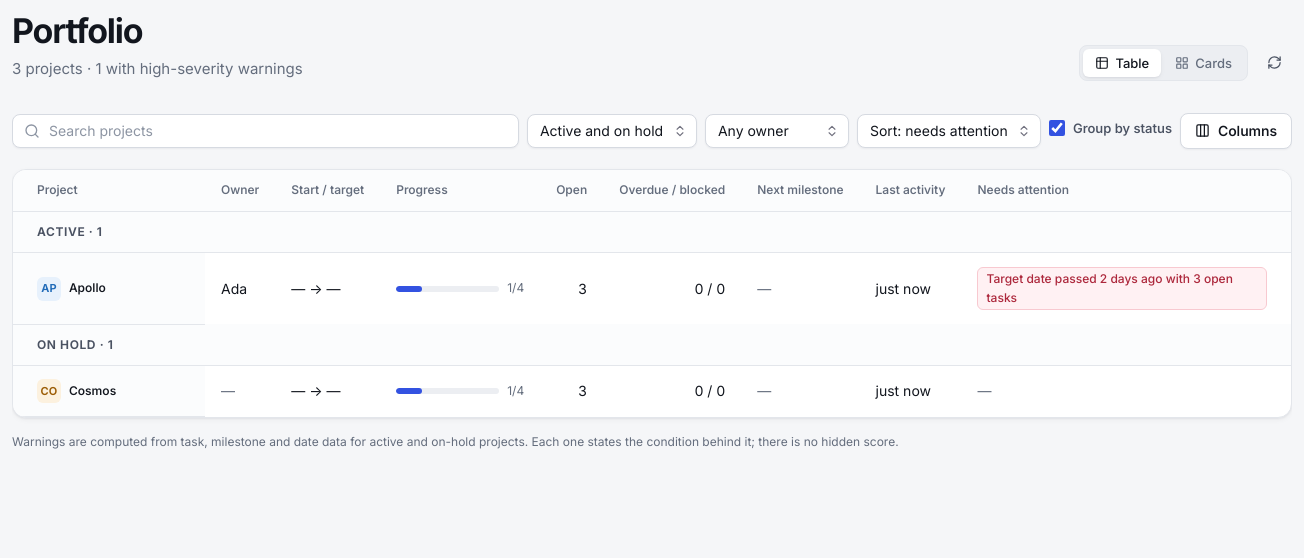
Test: Portfolio › lists active and on-hold projects with explained warnings, and filters by owner
Expected: the link "AP Apollo" is shown, left=37, top=276, right=106, bottom=300
Expected: the list item "Target date passed 2 days ago with 3 open tasks" is shown, left=978, top=267, right=1267, bottom=310
Select "All statuses" in the dropdown named "Status": (612, 131) left=527, top=114, right=697, bottom=148
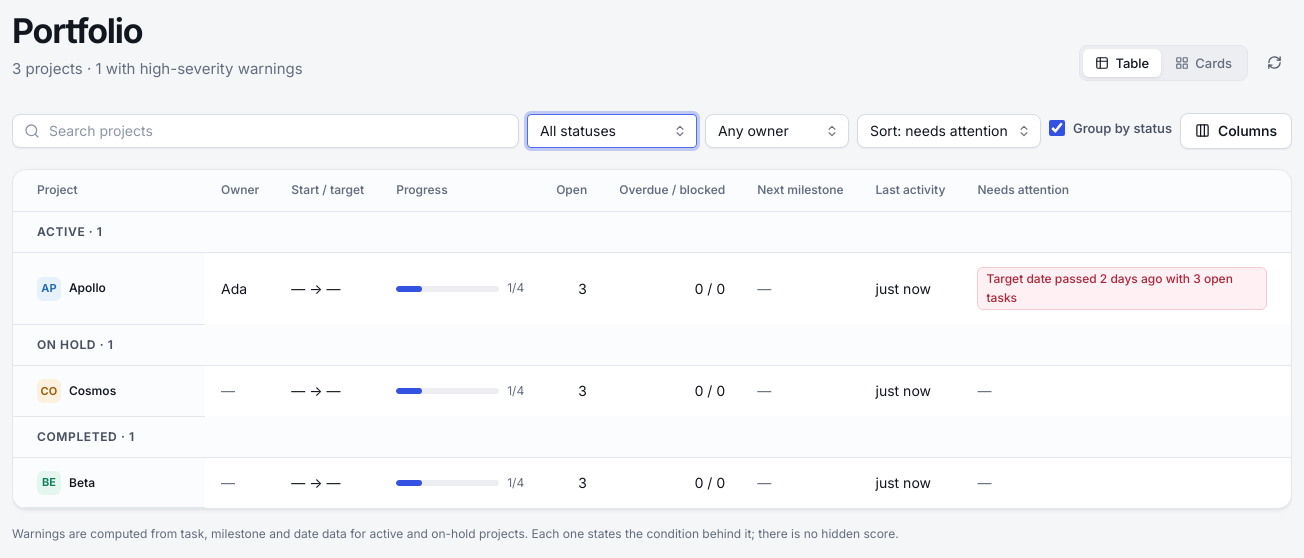
Result: the link "BE Beta" is shown at left=37, top=470, right=95, bottom=494
Select "Ada" in the dropdown named "Owner": (777, 131) left=705, top=114, right=849, bottom=148
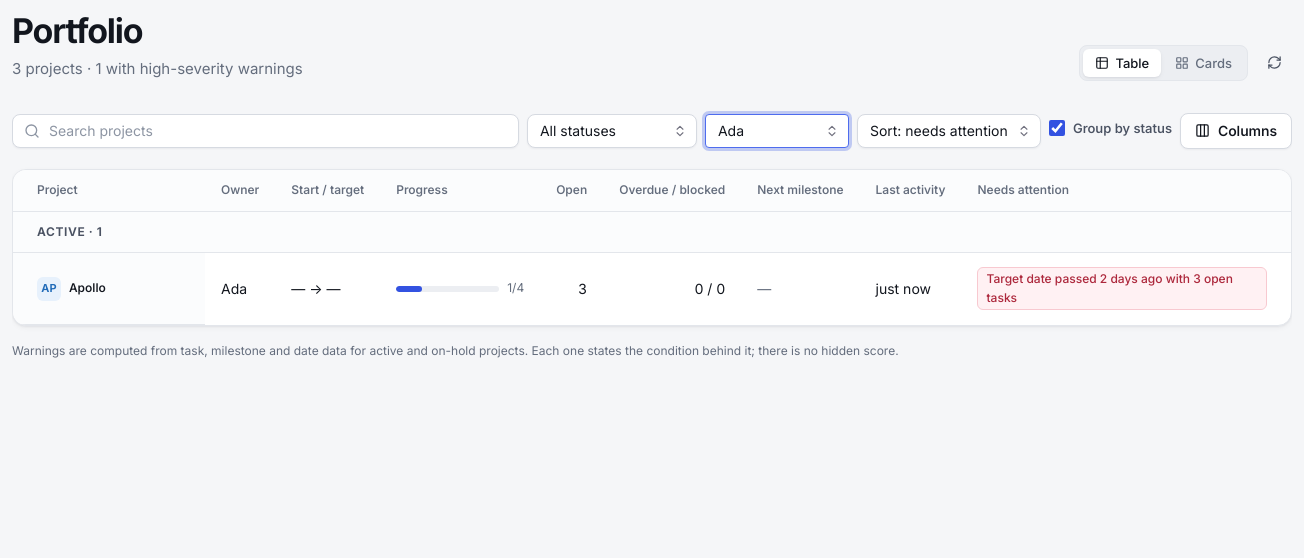
Result: the link "Cosmos" is gone
